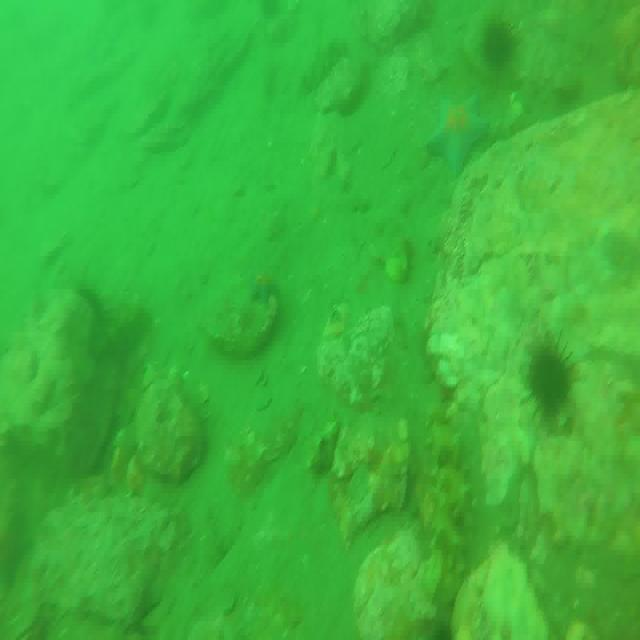echinus: (525, 339, 573, 421), (482, 18, 518, 71)
starfish: (423, 96, 486, 175)
